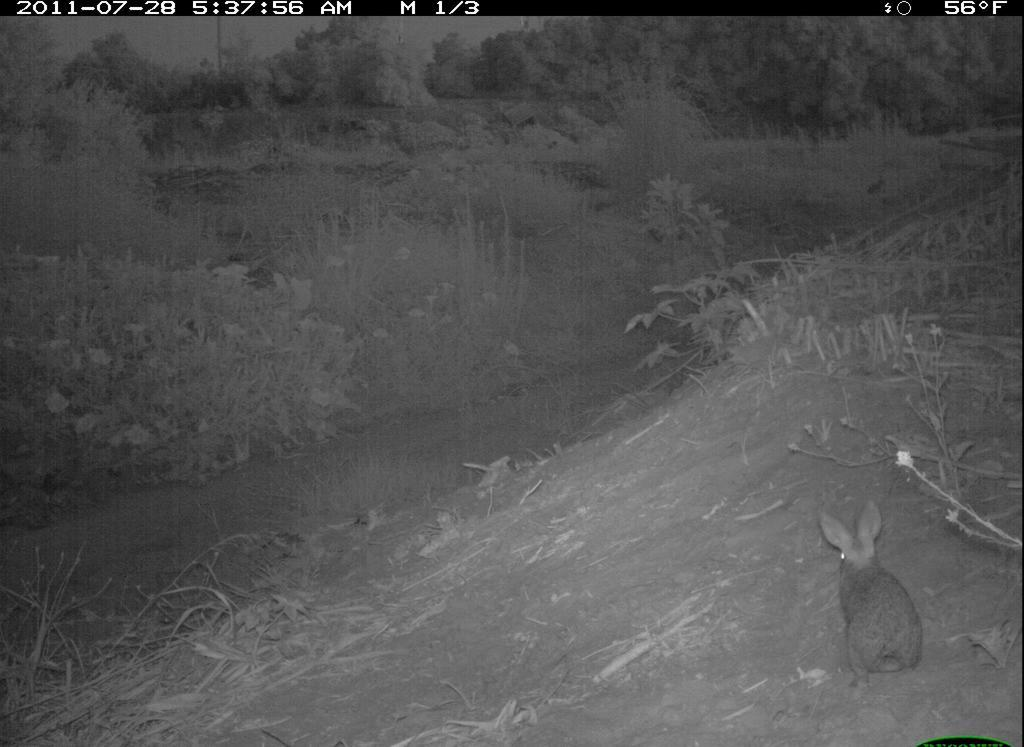rabbit: (811, 497, 931, 692)
